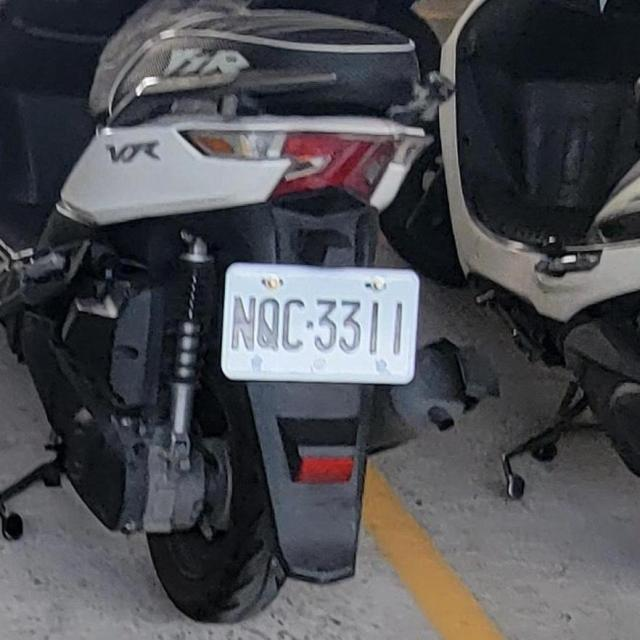W: (208, 250, 424, 392)
